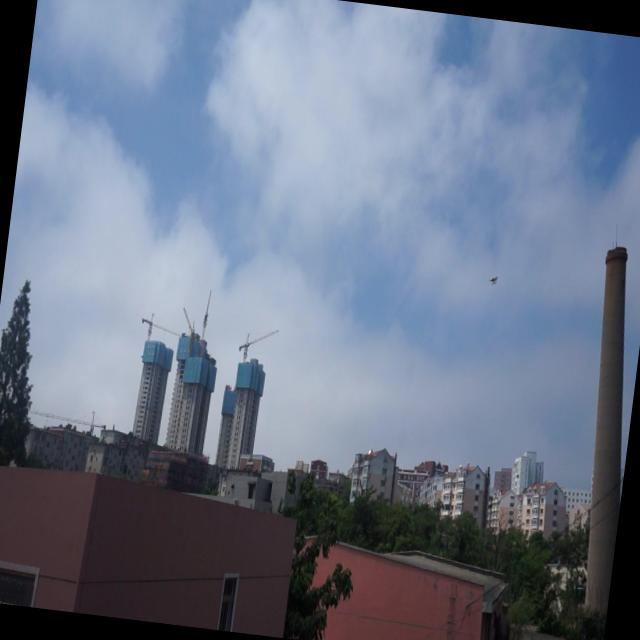drone: (486, 271, 502, 289)
